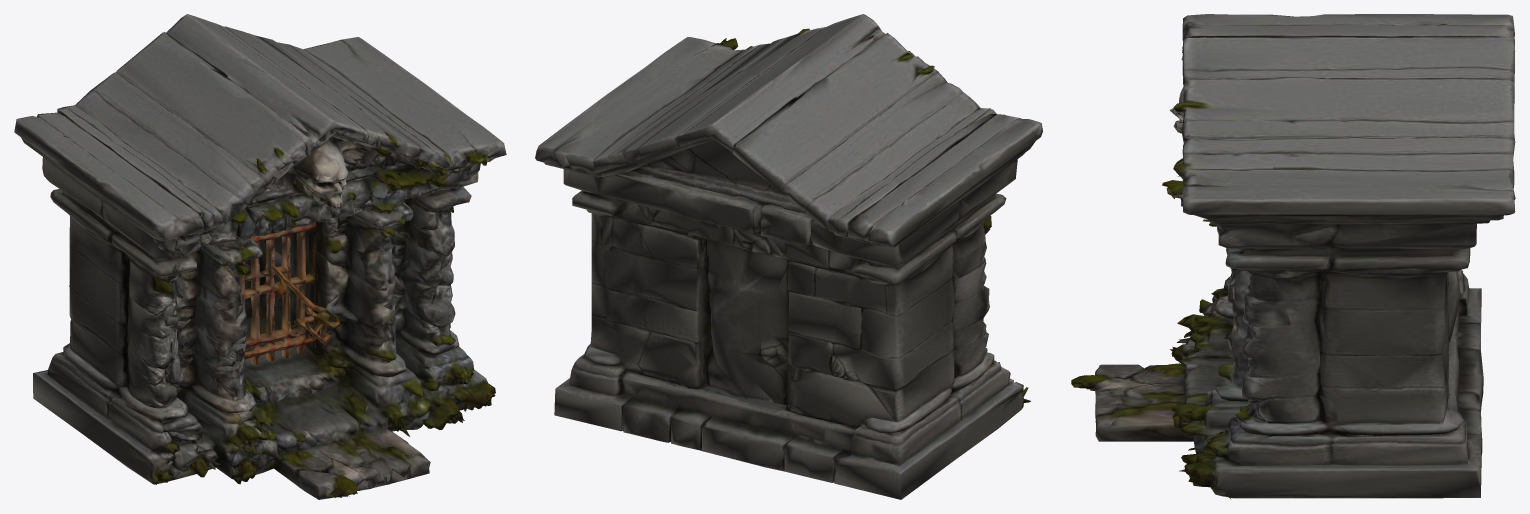
Rendered from Muspelheim_Dark_Thread_Vault.glb.
The picture shows the model from 3 angles, left to right: view 1: azimuth 30°, elevation 25°; view 2: azimuth 150°, elevation 25°; view 3: azimuth 270°, elevation 25°; orthographic projection. The views are drawn at different scales.
Visible parts, largest first — view 1: Dark Thread Vault; view 2: Dark Thread Vault; view 3: Dark Thread Vault.
Boxes of the visible parts, box(x1,y1,x2,y2) form: Dark Thread Vault: box(14, 14, 506, 499); Dark Thread Vault: box(535, 14, 1042, 499); Dark Thread Vault: box(1071, 14, 1515, 499).
Size of the model in its own units: 0.9779 by 0.9081 by 0.9773.
1 material, 1 textured.
